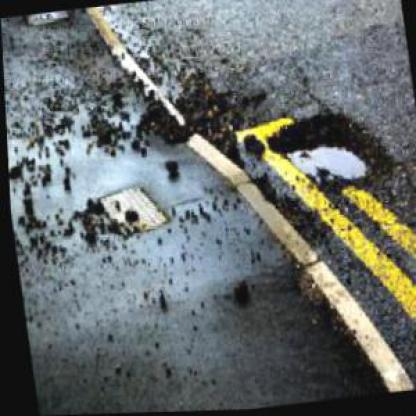pothole: (261, 104, 395, 201)
